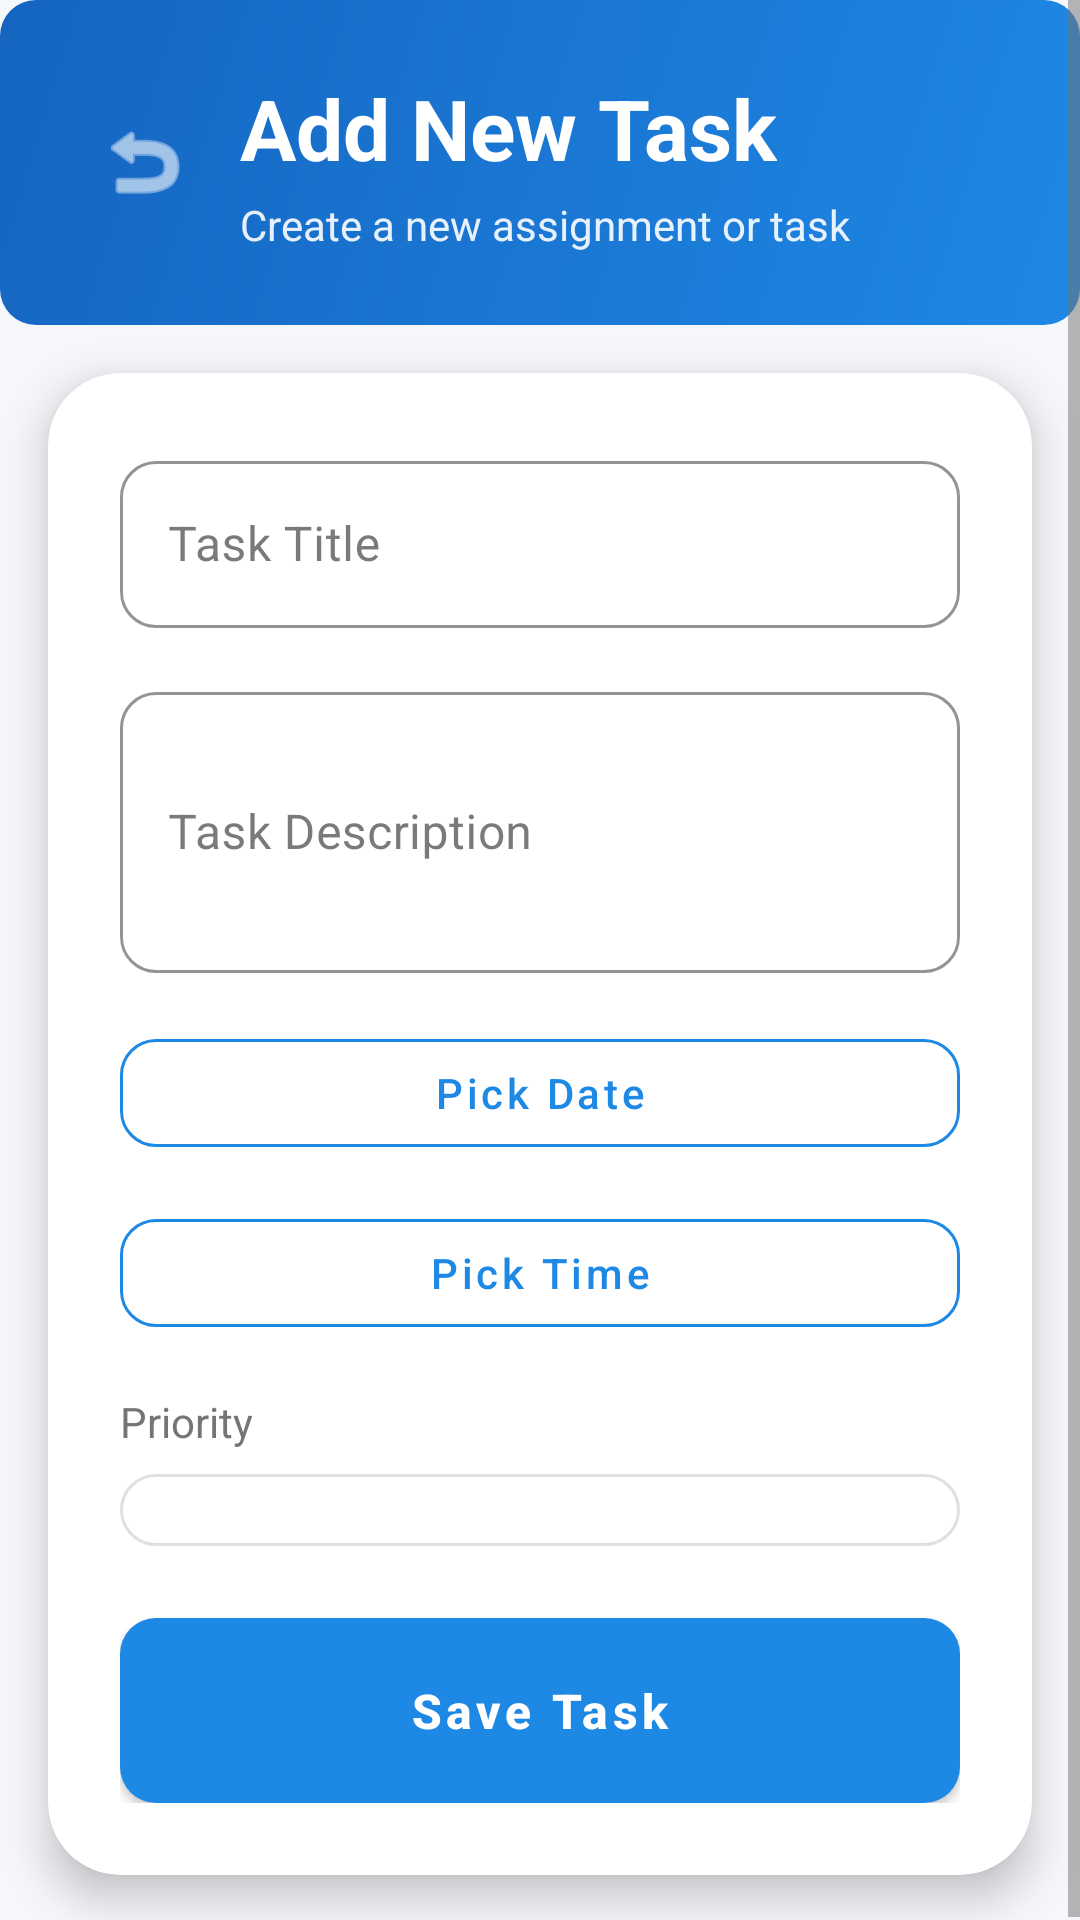

Icon click points for this 1080 × 1920 phone screenshot, format point (x, y):
revert: point (145, 162)
